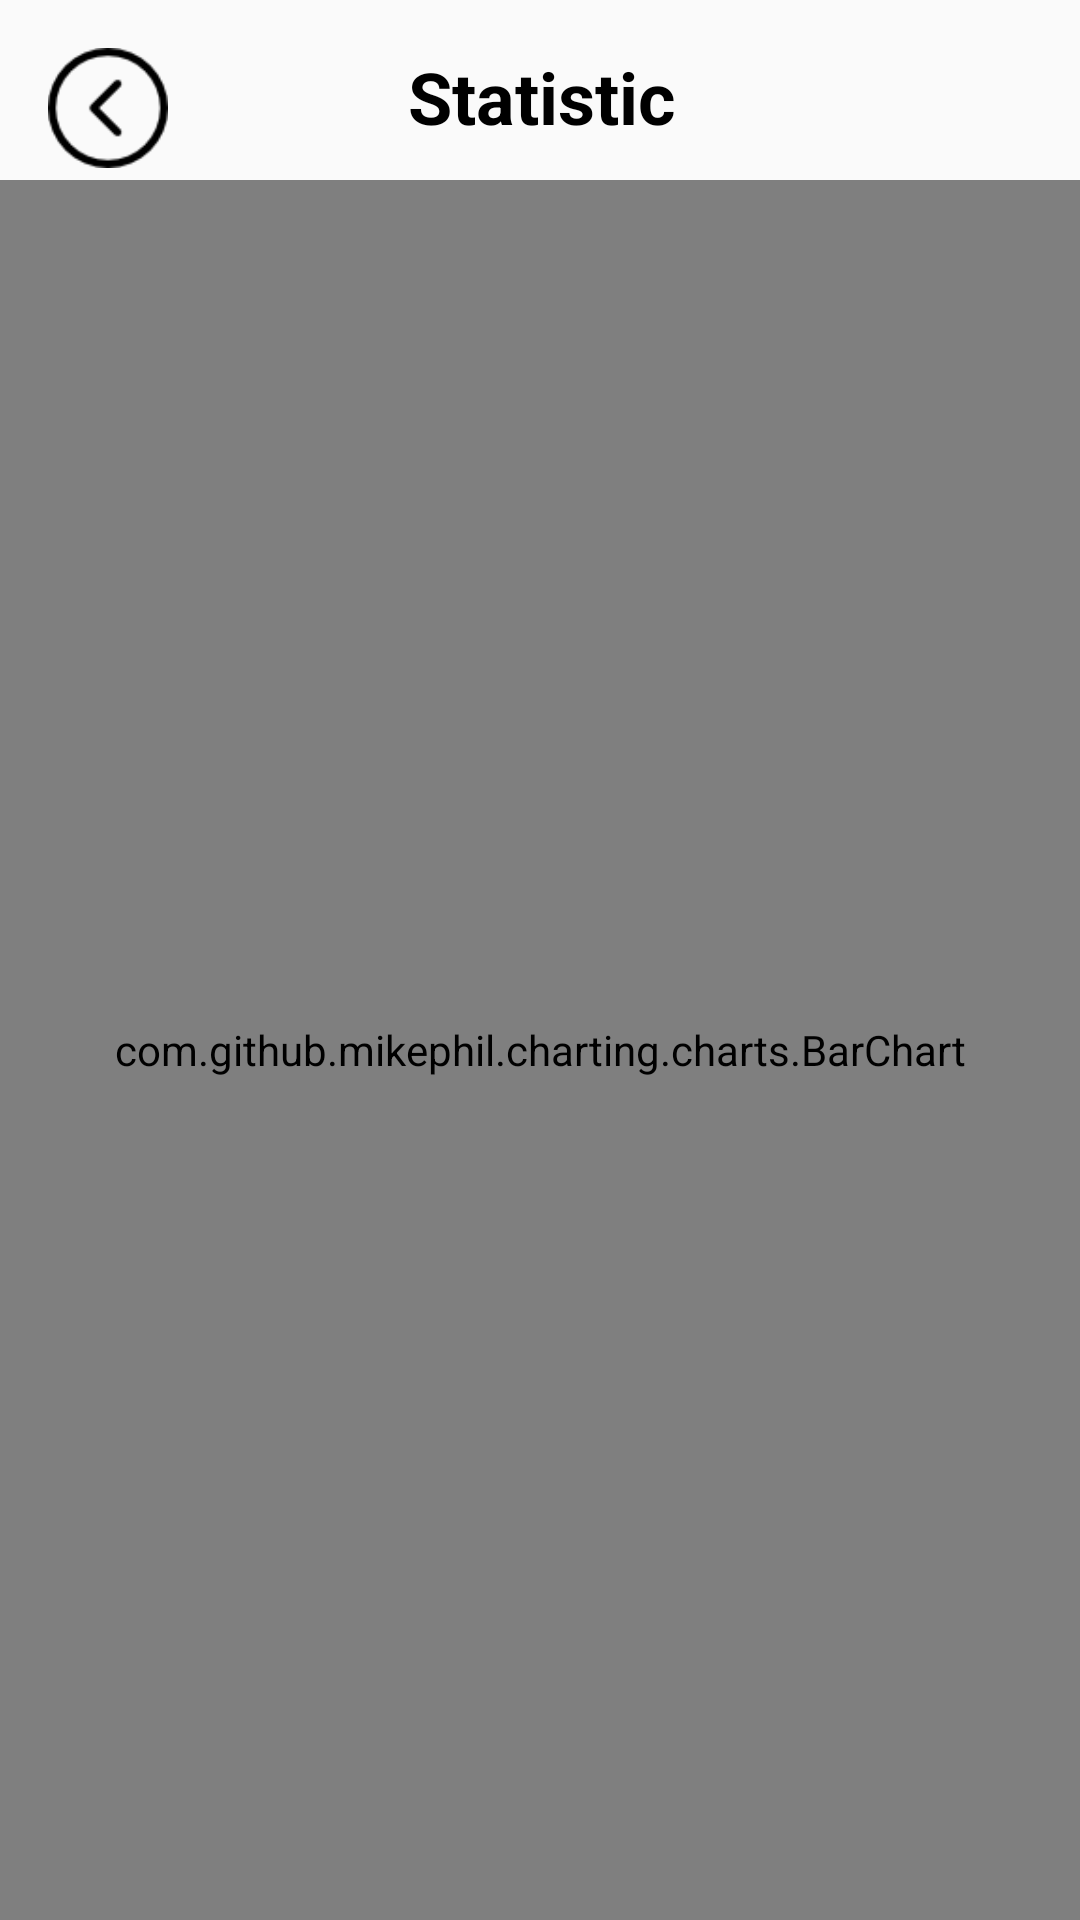

Icon click points for this 1080×1920 phone screenshot, format (x,y):
roundleftbutton: (108,108)
